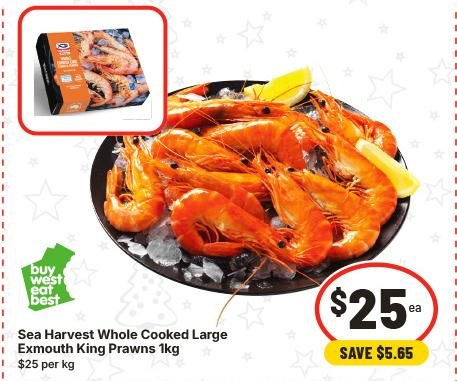description_block: (13, 321, 233, 359)
price_main: (304, 262, 438, 342)
product_image_block: (15, 7, 403, 265)
promo_text_block: (317, 340, 435, 365)
unit_price_block: (13, 358, 85, 373)
